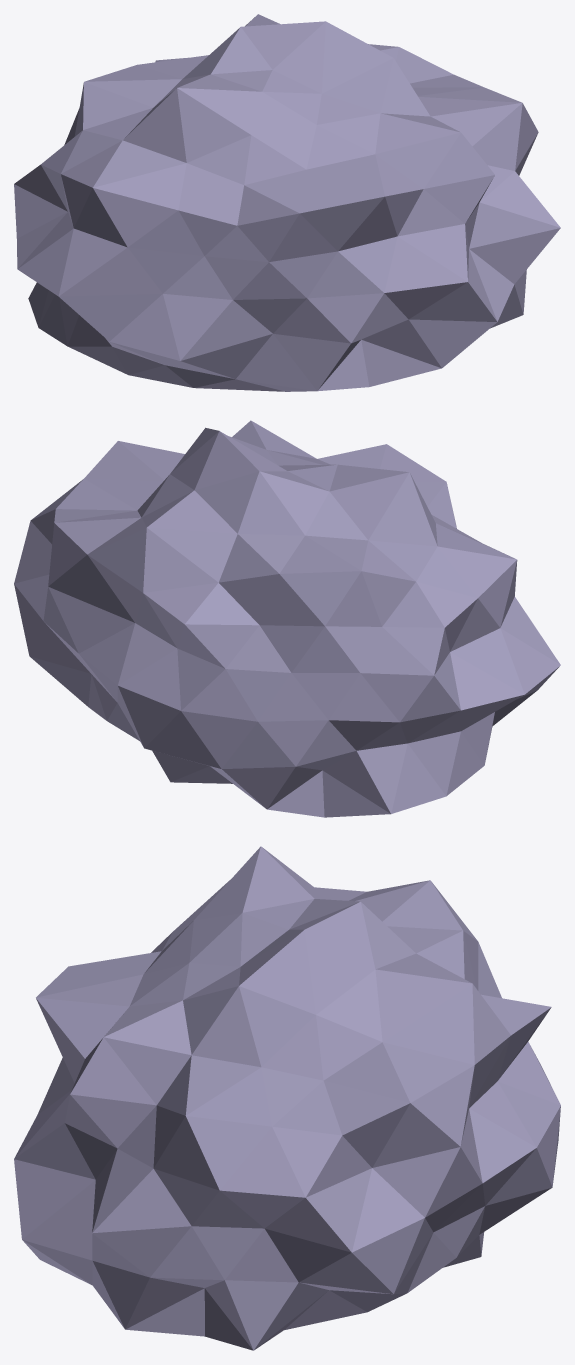
File: rock_a.glb
3 renders of one model, top to bottom at view 1: azimuth 30°, elevation 25°; view 2: azimuth 150°, elevation 25°; view 3: azimuth 270°, elevation 25°, orthographic. The views are drawn at different scales.
Visible parts, largest first — view 1: rock_a; view 2: rock_a; view 3: rock_a.
Part boxes in pixels (x1=…): rock_a: x1=14, y1=14, x2=560, y2=391; rock_a: x1=14, y1=420, x2=560, y2=817; rock_a: x1=14, y1=846, x2=560, y2=1350.
Size of the model in its own units: 2.69 by 1.49 by 2.16.
